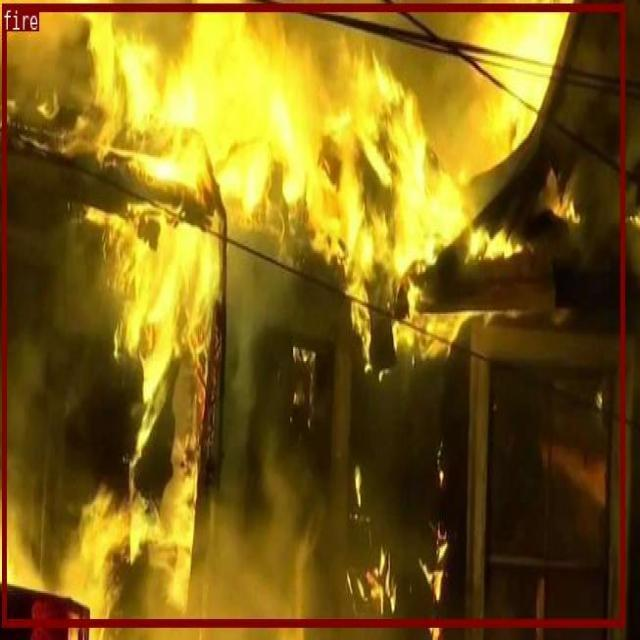fire: (2, 3, 624, 626)
